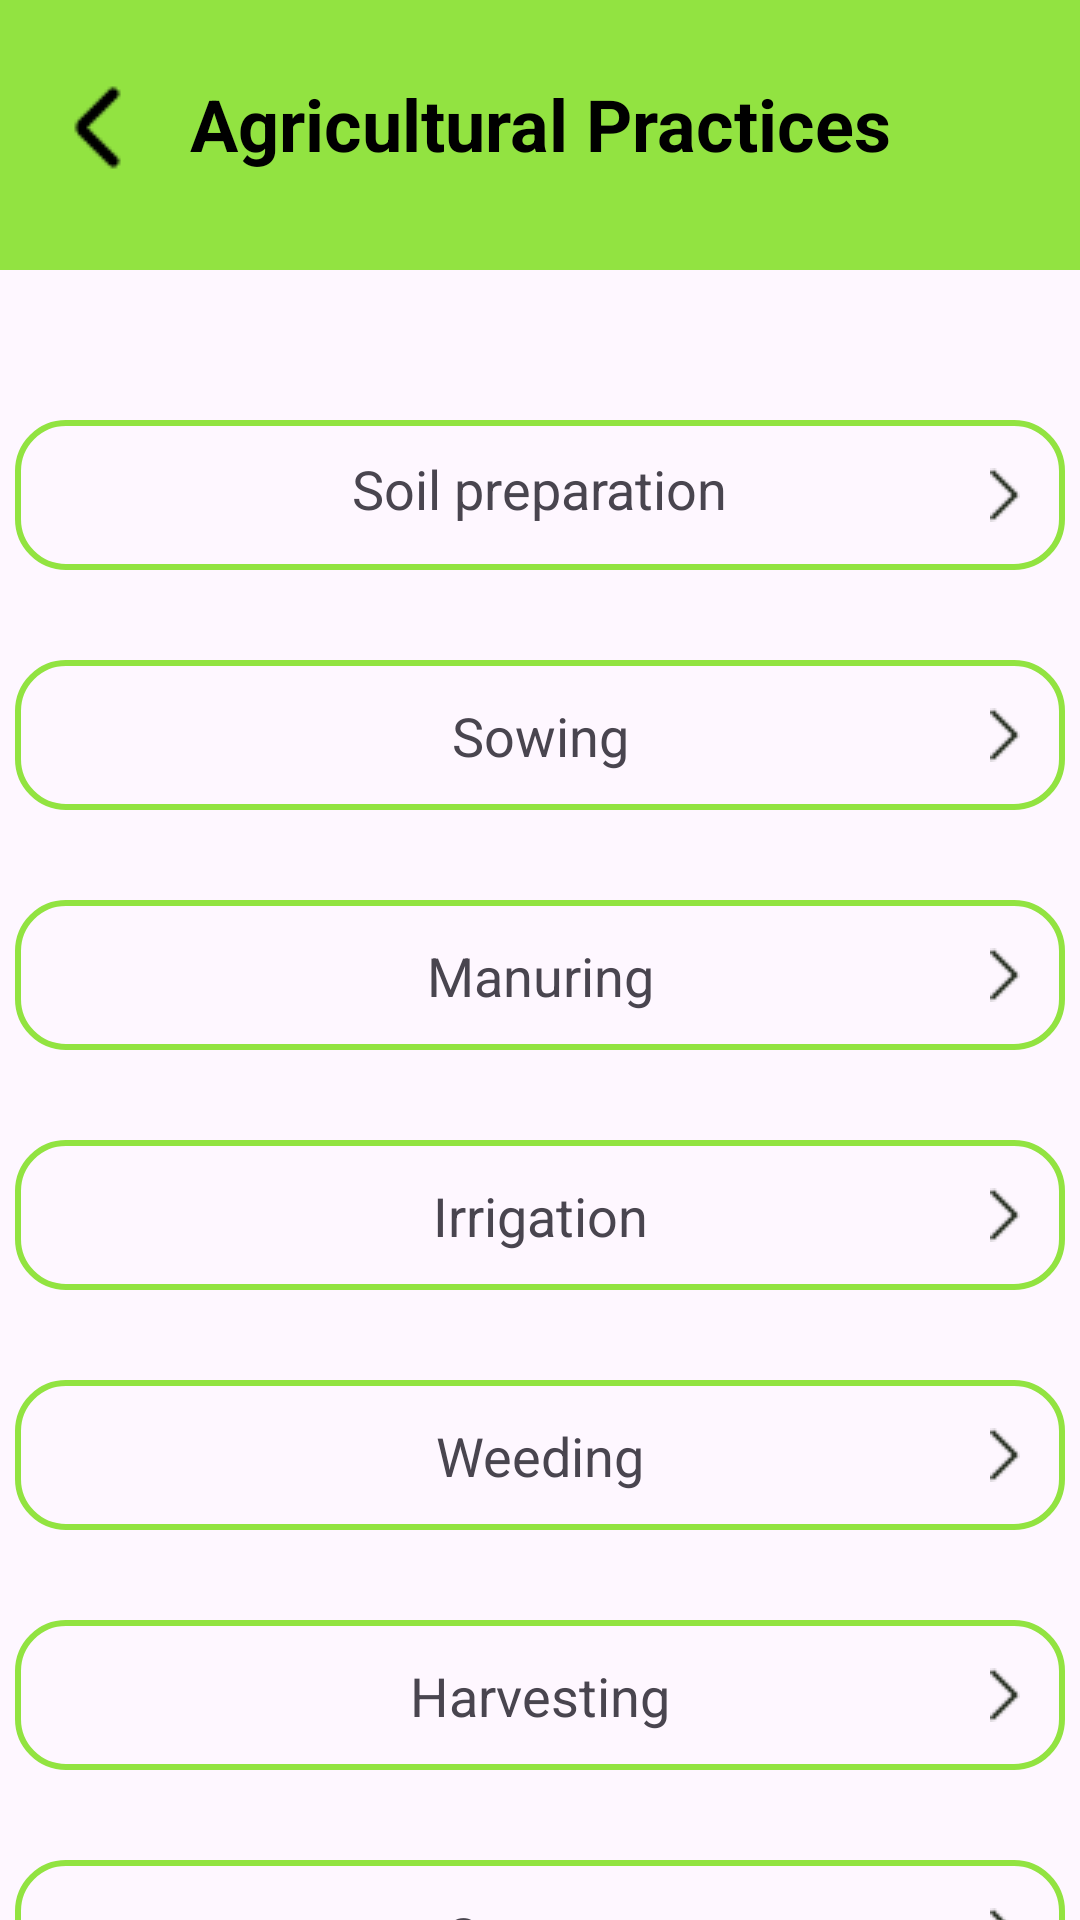

Icon click points for this 1080×1920 phone screenshot, format (x=x, y=y):
back arrow: (x=97, y=127)
